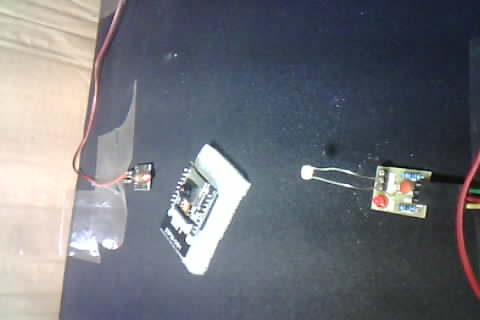esp32: (159, 143, 252, 278)
